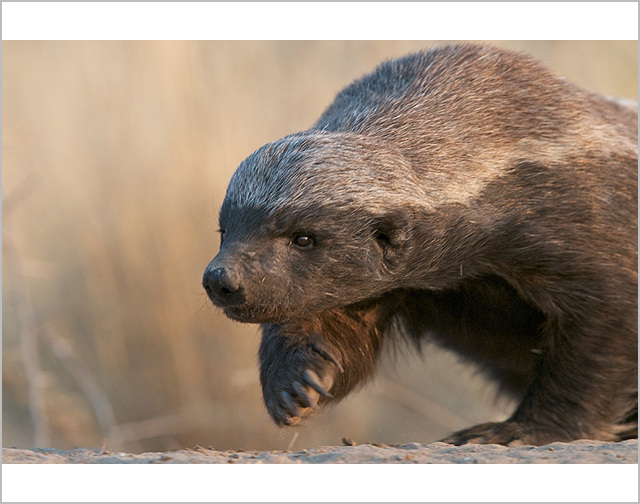badger: (193, 41, 633, 441)
